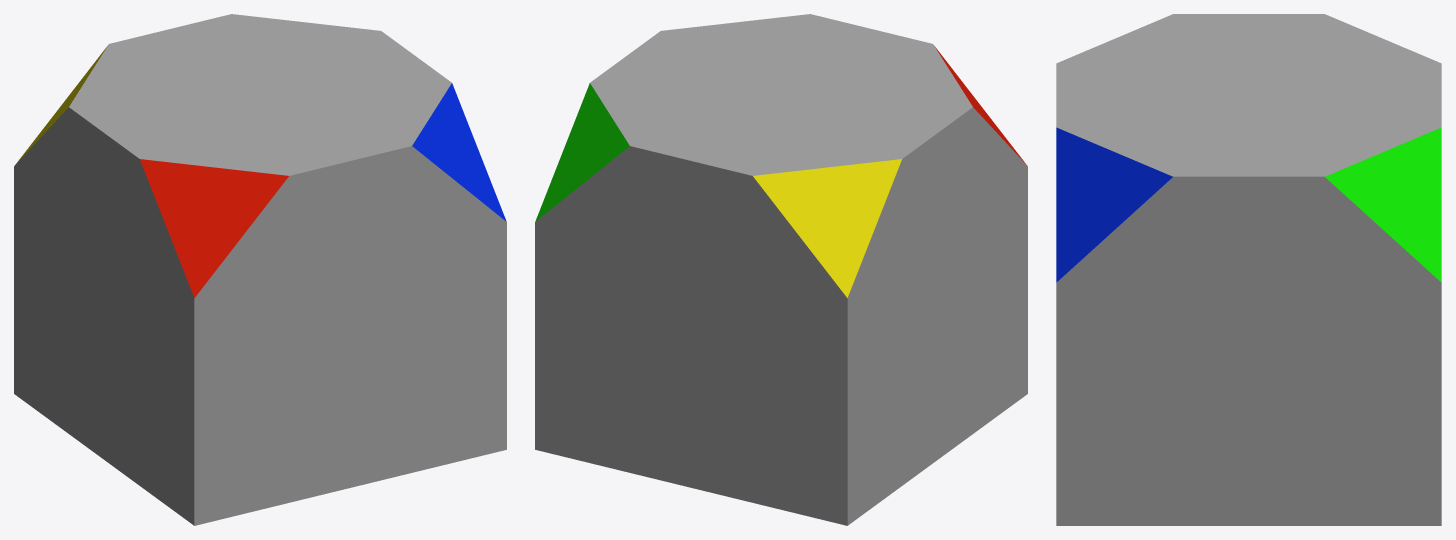
File: normal-box.glb
3 views of the same model, side by side, from view 1: azimuth 30°, elevation 25°; view 2: azimuth 150°, elevation 25°; view 3: azimuth 270°, elevation 25° (orthographic). The views are drawn at different scales.
Parts seen in each view (by area): view 1: 立方体; view 2: 立方体; view 3: 立方体.
Part boxes in pixels (bbox=[...]): 立方体: bbox=[14, 14, 506, 525]; 立方体: bbox=[535, 14, 1027, 525]; 立方体: bbox=[1056, 14, 1441, 525].
Bounding box in the file's own units: 0.056 × 0.056 × 0.056.
